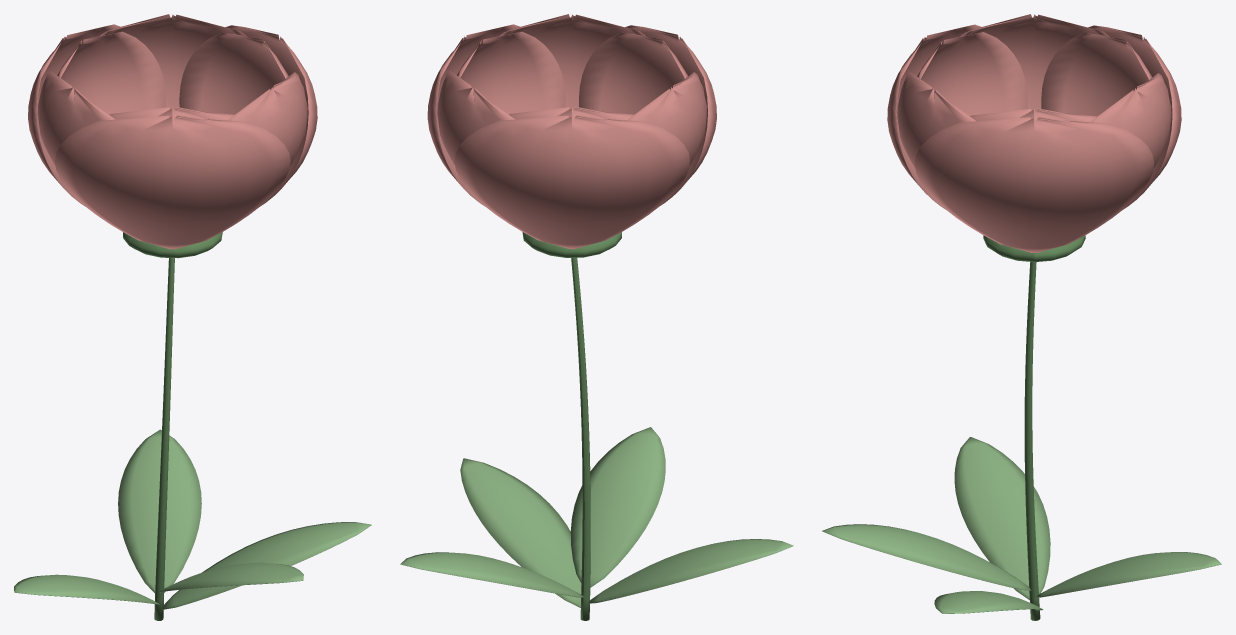
File: tulip-legendary-v2.glb
3 renders of one model, left to right at view 1: azimuth 30°, elevation 25°; view 2: azimuth 150°, elevation 25°; view 3: azimuth 270°, elevation 25°, orthographic.
Visible parts, largest first — view 1: tulip-legendary-v2-petal, tulip-legendary-v2-leaf, tulip-legendary-v2-stem; view 2: tulip-legendary-v2-petal, tulip-legendary-v2-leaf, tulip-legendary-v2-stem; view 3: tulip-legendary-v2-petal, tulip-legendary-v2-leaf, tulip-legendary-v2-stem.
Part boxes in pixels (left/top/right/bottom): tulip-legendary-v2-petal: left=28, top=14, right=317, bottom=249; tulip-legendary-v2-leaf: left=14, top=429, right=371, bottom=609; tulip-legendary-v2-stem: left=123, top=232, right=222, bottom=620; tulip-legendary-v2-petal: left=427, top=14, right=716, bottom=249; tulip-legendary-v2-leaf: left=400, top=427, right=793, bottom=607; tulip-legendary-v2-stem: left=522, top=232, right=621, bottom=620; tulip-legendary-v2-petal: left=887, top=14, right=1181, bottom=252; tulip-legendary-v2-leaf: left=822, top=437, right=1221, bottom=613; tulip-legendary-v2-stem: left=983, top=235, right=1085, bottom=620.
Size of the model in its own units: 1.42 by 2.19 by 1.41.
